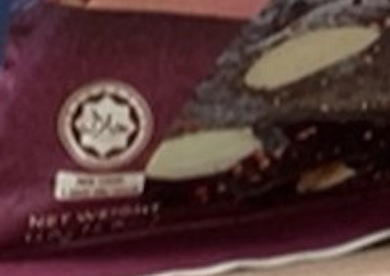halal: (82, 107, 132, 141)
